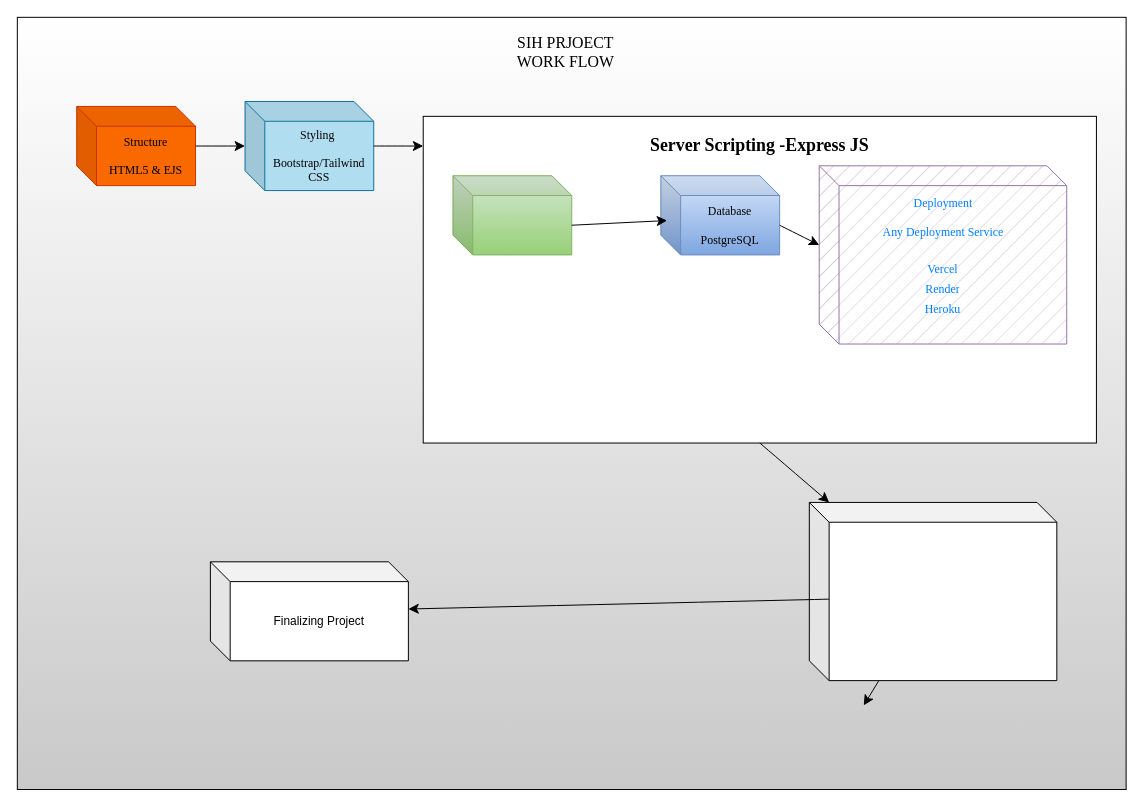
This 1143x807 diagram has some shape labels left out. The shapes that lost their labels are listed below. From the top down, each one's box as (x1, y1, x2, y2) in pixels, then its label:
(452, 175, 572, 255): User Auth Passport.JS
(808, 501, 1057, 681): Testing & Rectification
